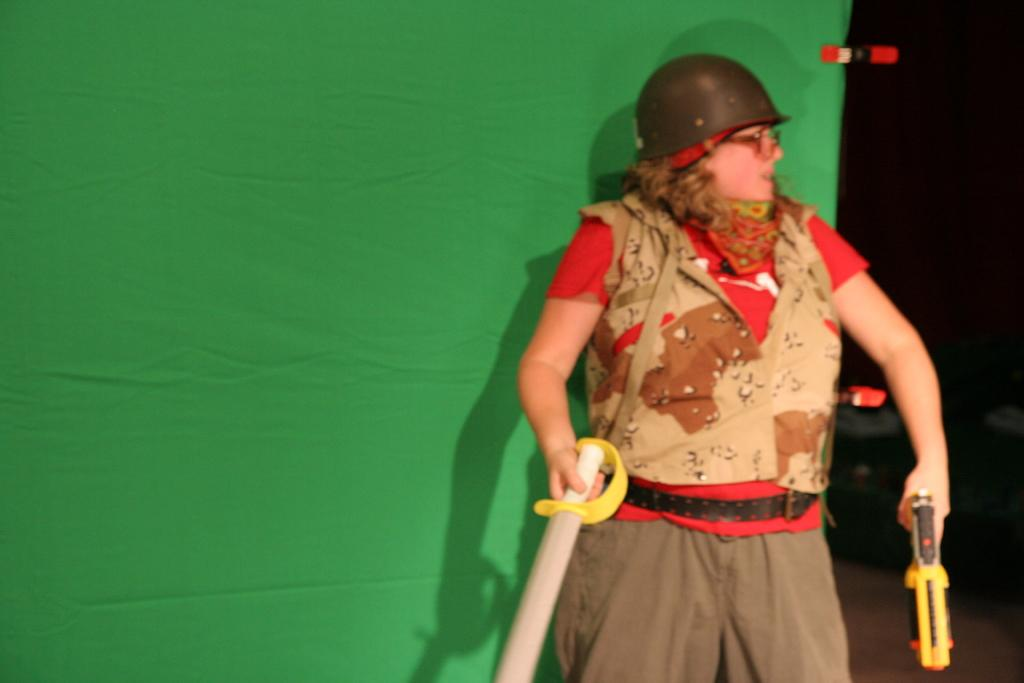Hat: (632, 54, 790, 170)
